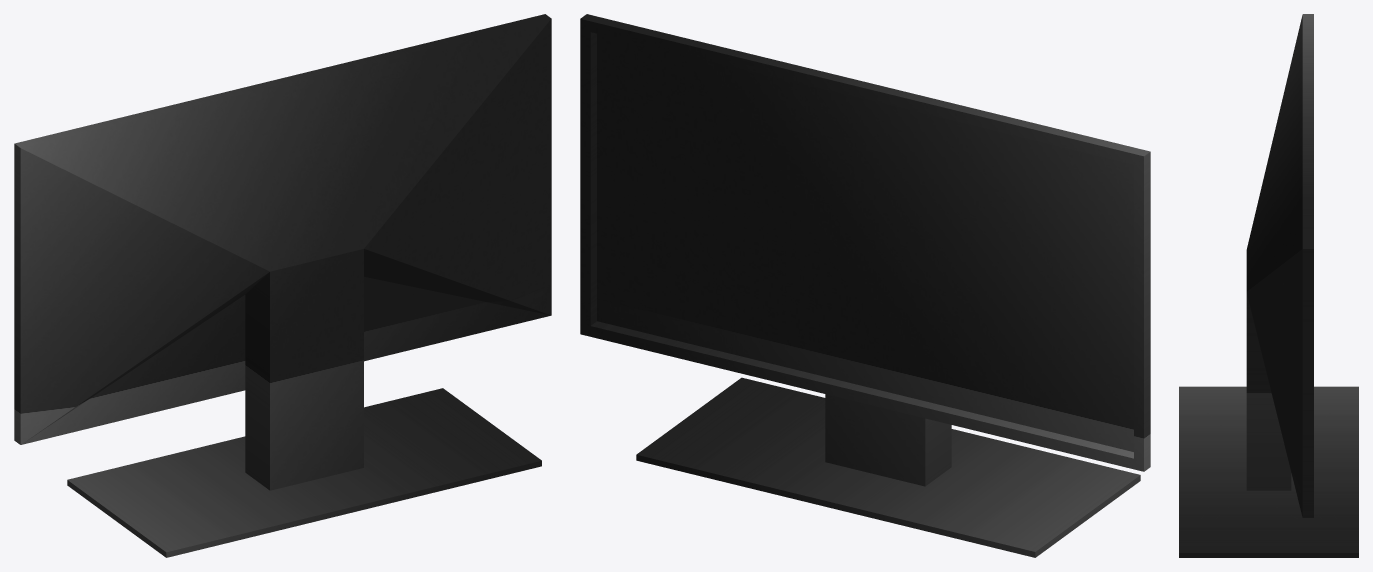
Rendered from MonitorComputador.dae.
The picture shows the model from 3 angles, left to right: view 1: azimuth 30°, elevation 25°; view 2: azimuth 150°, elevation 25°; view 3: azimuth 270°, elevation 25°; orthographic projection. The views are drawn at different scales.
Visible parts, largest first — view 1: instance_2 (×2); view 2: instance_2 (×3); view 3: instance_2 (×2).
Part boxes in pixels (x1,y1,x2,y2): instance_2 (×2): (14,14,551,557); instance_2 (×3): (580,14,1150,557); instance_2 (×2): (1179,14,1358,557).
Size of the model in its own units: 19.47 by 6.3 by 13.28.
1 material, 1 textured.
